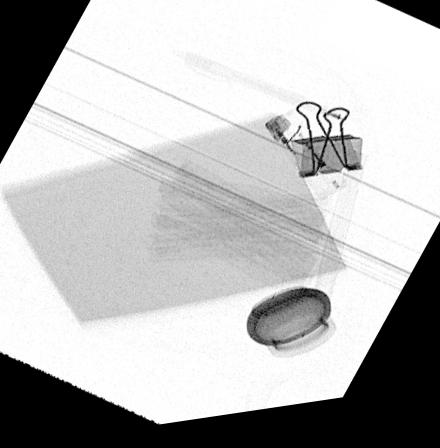Lighter: (262, 122, 347, 208)
